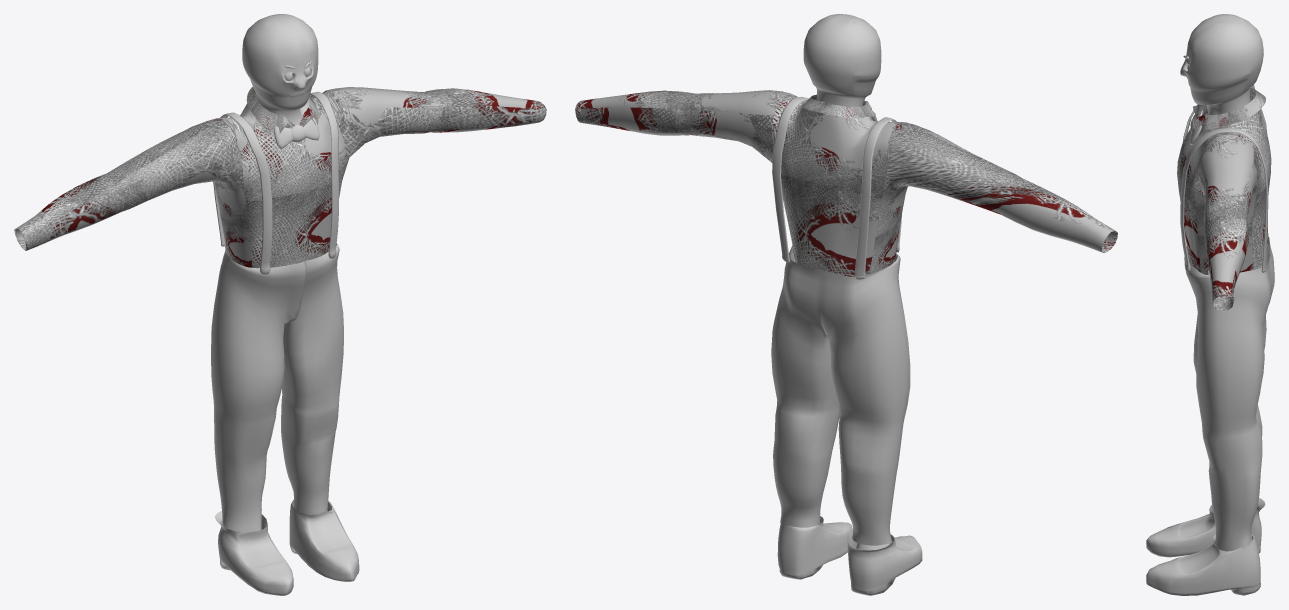
File: enemy3.fbx
3 views of the same model, side by side, from view 1: azimuth 30°, elevation 25°; view 2: azimuth 150°, elevation 25°; view 3: azimuth 270°, elevation 25° (orthographic). The views are drawn at different scales.
Visible parts, largest first — view 1: polySurface10, polySurface2, polySurface5, polySurface16, polySurface15, polySurface12, polySurface11, polySurface3; view 2: polySurface10, polySurface2, polySurface5, polySurface15, polySurface16, polySurface12, polySurface11; view 3: polySurface2, polySurface10, polySurface5, polySurface15, polySurface16, polySurface11.
Part boxes in pixels (<box>): polySurface10: <box>14,87,546,268</box>; polySurface2: <box>211,243,343,532</box>; polySurface5: <box>242,14,318,124</box>; polySurface16: <box>214,510,293,595</box>; polySurface15: <box>289,500,359,581</box>; polySurface12: <box>213,112,272,274</box>; polySurface11: <box>309,91,338,258</box>; polySurface3: <box>274,117,319,148</box>; polySurface10: <box>575,90,1117,276</box>; polySurface2: <box>771,246,910,545</box>; polySurface5: <box>803,14,881,106</box>; polySurface15: <box>777,516,852,579</box>; polySurface16: <box>847,531,922,595</box>; polySurface12: <box>854,117,901,279</box>; polySurface11: <box>772,96,808,262</box>; polySurface2: <box>1184,237,1274,551</box>; polySurface10: <box>1177,85,1271,311</box>; polySurface5: <box>1180,14,1263,275</box>; polySurface15: <box>1146,534,1260,595</box>; polySurface16: <box>1146,498,1265,557</box>; polySurface11: <box>1180,128,1268,272</box>.
Bounding box in the file's own units: 6.79 × 6.76 × 1.43.
